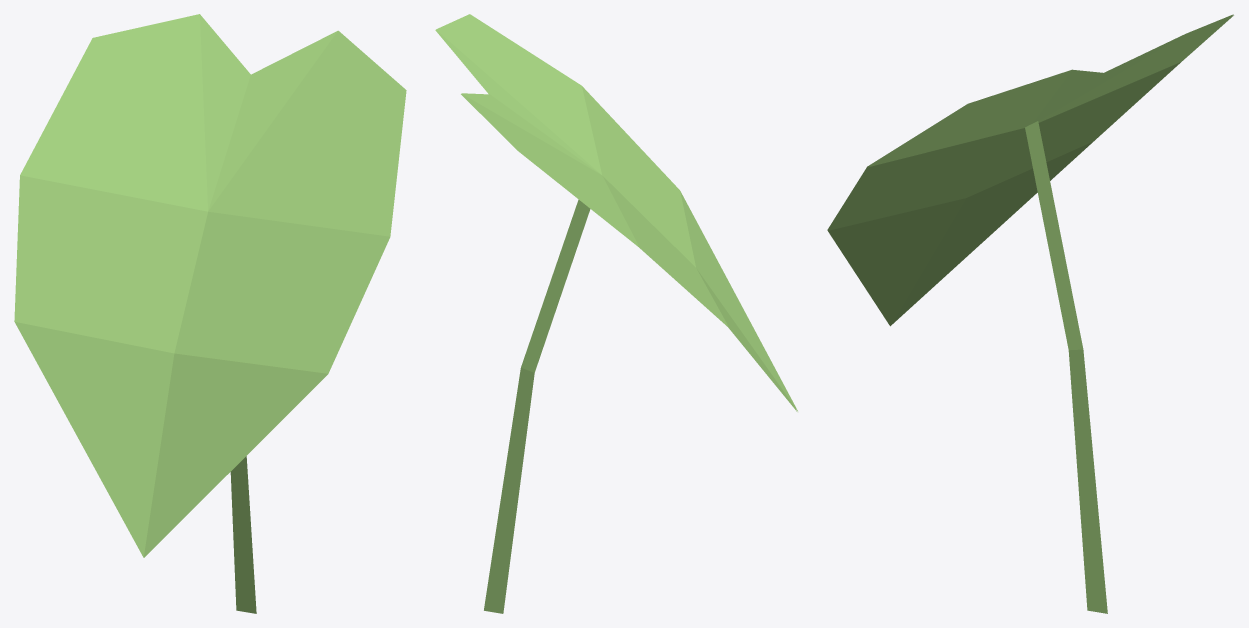
File: plant2.fbx
3 renders of one model, left to right at view 1: azimuth 30°, elevation 25°; view 2: azimuth 150°, elevation 25°; view 3: azimuth 270°, elevation 25°, orthographic. The views are drawn at different scales.
Visible parts, largest first — view 1: Plant_d_TwoS_02; view 2: Plant_d_TwoS_02; view 3: Plant_d_TwoS_02.
Boxes of the visible parts, x1,y1,x2,y2 form: Plant_d_TwoS_02: [14, 14, 406, 613]; Plant_d_TwoS_02: [435, 14, 797, 613]; Plant_d_TwoS_02: [827, 14, 1233, 613].
Size of the model in its own units: 43.04 by 40.72 by 67.31.
Materials: 1 (1 with a texture image).
